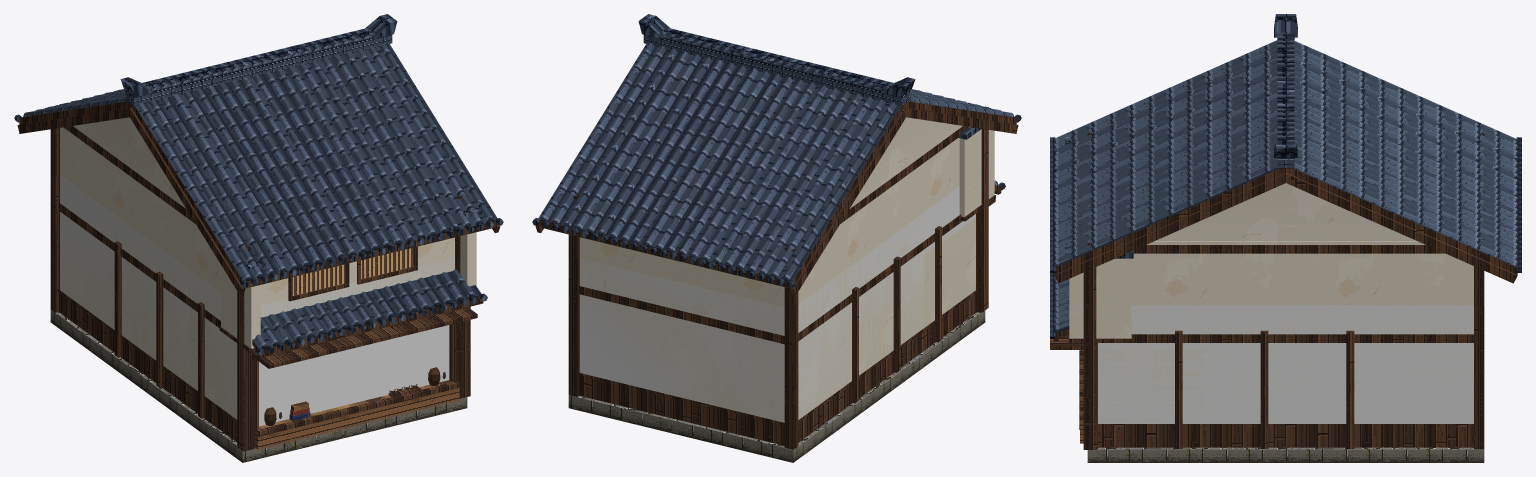
The model's file is JP_Row_Shop_B_F.glb.
3 views of the same model, side by side, from view 1: azimuth 30°, elevation 25°; view 2: azimuth 150°, elevation 25°; view 3: azimuth 270°, elevation 25° (orthographic). The views are drawn at different scales.
Parts seen in each view (by area): view 1: JP_Row_Shop_B_F, COL_JP_Row_Shop_B_F; view 2: JP_Row_Shop_B_F, COL_JP_Row_Shop_B_F; view 3: JP_Row_Shop_B_F, COL_JP_Row_Shop_B_F.
Boxes of the visible parts, x1,y1,x2,y2 form: JP_Row_Shop_B_F: (14, 14, 503, 462); COL_JP_Row_Shop_B_F: (60, 174, 454, 426); JP_Row_Shop_B_F: (532, 14, 1021, 462); COL_JP_Row_Shop_B_F: (579, 186, 975, 422); JP_Row_Shop_B_F: (1050, 14, 1521, 462); COL_JP_Row_Shop_B_F: (1098, 305, 1473, 423).
Size of the model in its own units: 7.42 by 8.36 by 11.
Materials: 16 (16 with a texture image).
